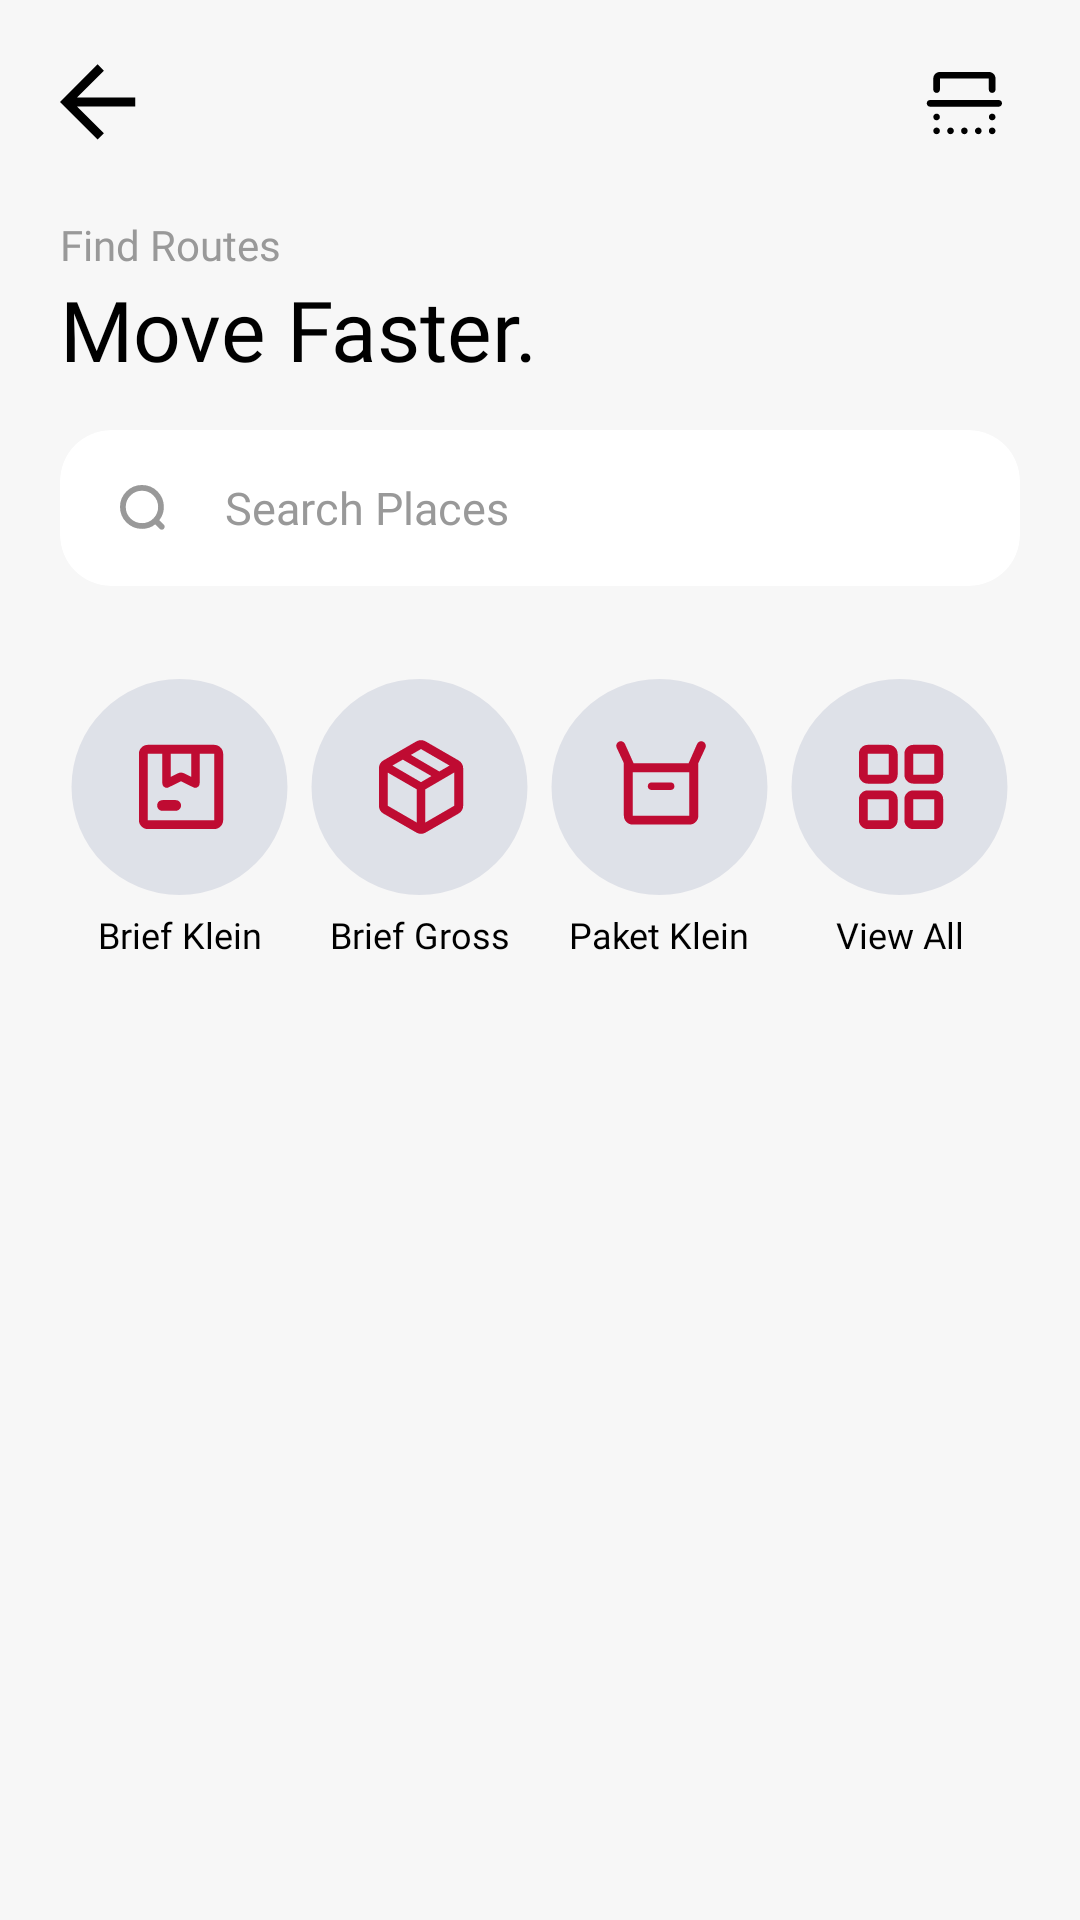

Named icons in this screenshot (1080px x 1920px) and their bounding boxes, Rect(x1, y1, x2, y2):
arrow back: Rect(60, 64, 136, 140)
flip: Rect(926, 72, 1002, 135)
